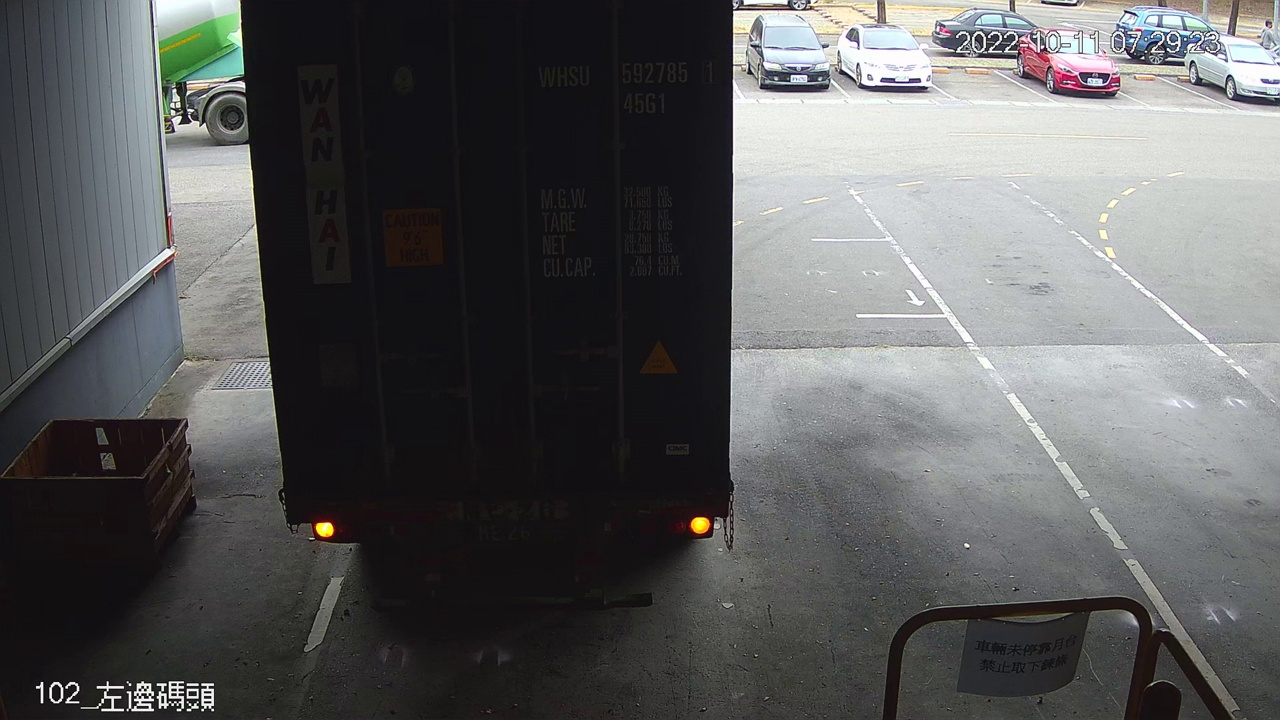container: (530, 54, 719, 125)
